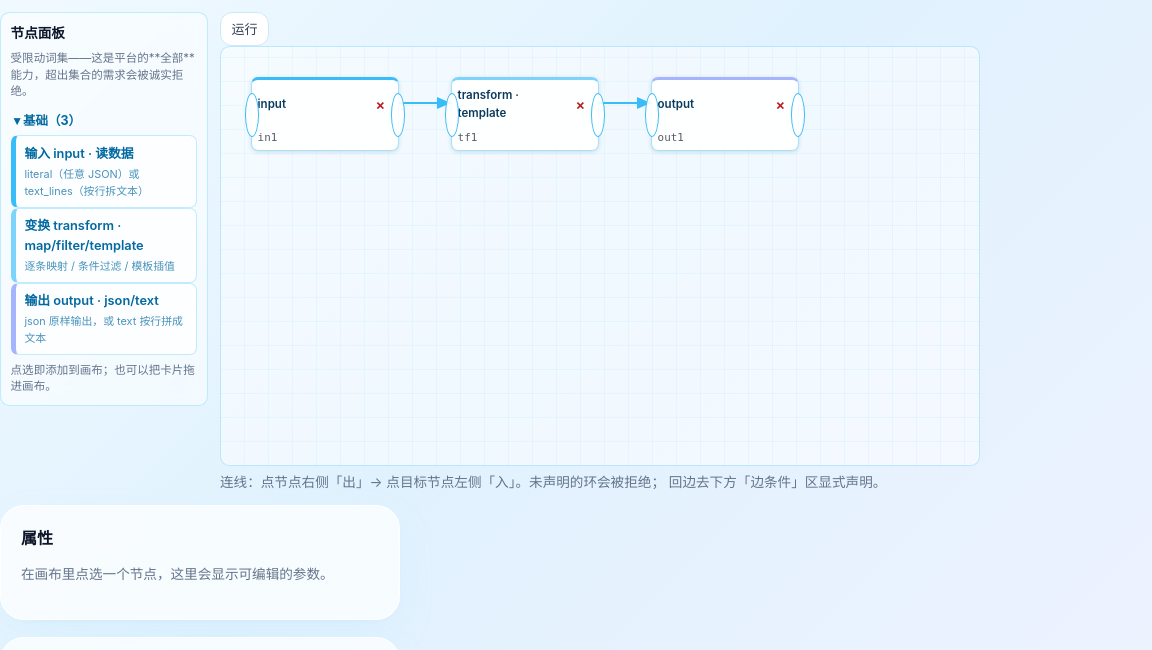
Test: FlowEditor 组件 · 画布交互 › 属性面板换动词会整组替换 params，换动词后 DSL 仍合法
Click the element with test id "flow-node-tf1".
click(525, 114)  # box [451,77,599,151]
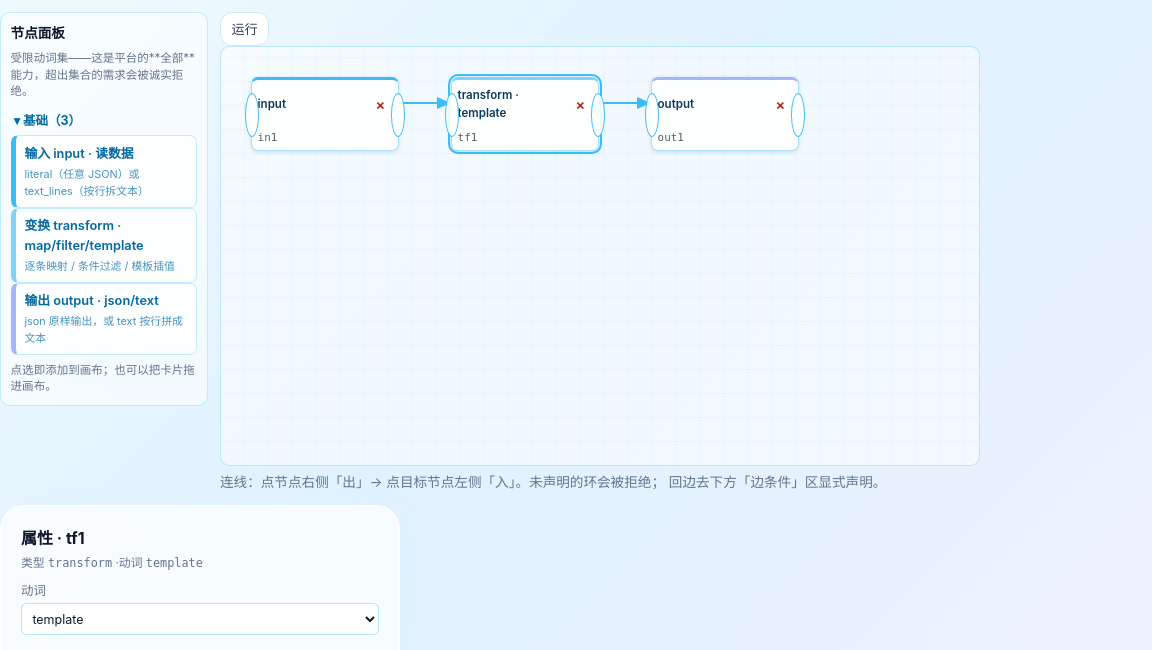
Select "map" in the dropdown with test id "prop-verb" at (200, 619), box [21,603,379,635]
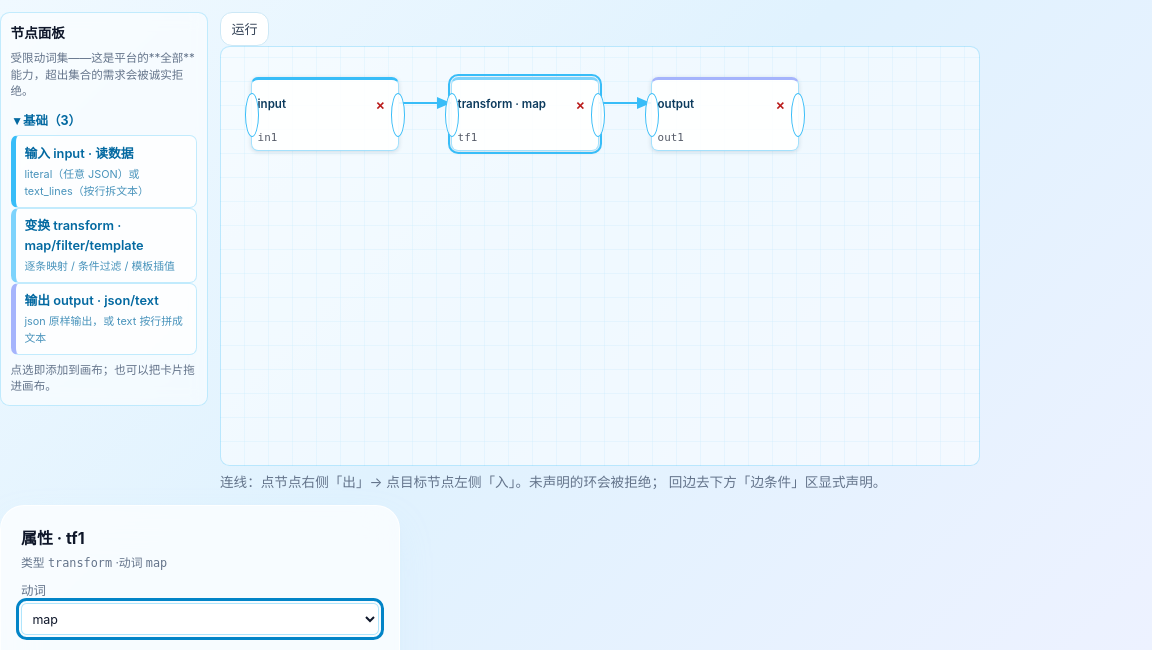
Now the text "map" is shown, box [146,556,167,570]
